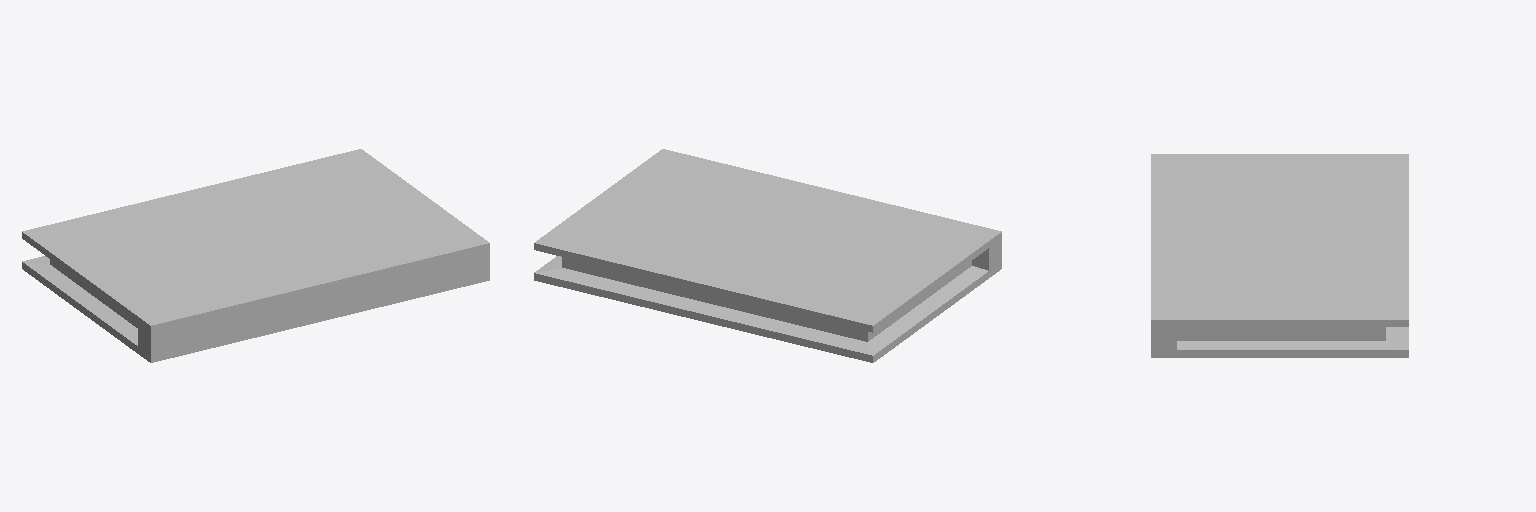
Rendered from livrinho.obj.
3 views of the same model, side by side, from view 1: azimuth 30°, elevation 25°; view 2: azimuth 150°, elevation 25°; view 3: azimuth 270°, elevation 25° (orthographic).
Parts seen in each view (by area): view 1: Cube_Cube.003; view 2: Cube_Cube.003; view 3: Cube_Cube.003.
Boxes of the visible parts, <box> form: Cube_Cube.003: <box>22,149,489,362</box>; Cube_Cube.003: <box>534,149,1001,362</box>; Cube_Cube.003: <box>1151,154,1408,357</box>.
Bounding box in the file's own units: 3.49 × 0.3675 × 2.3.